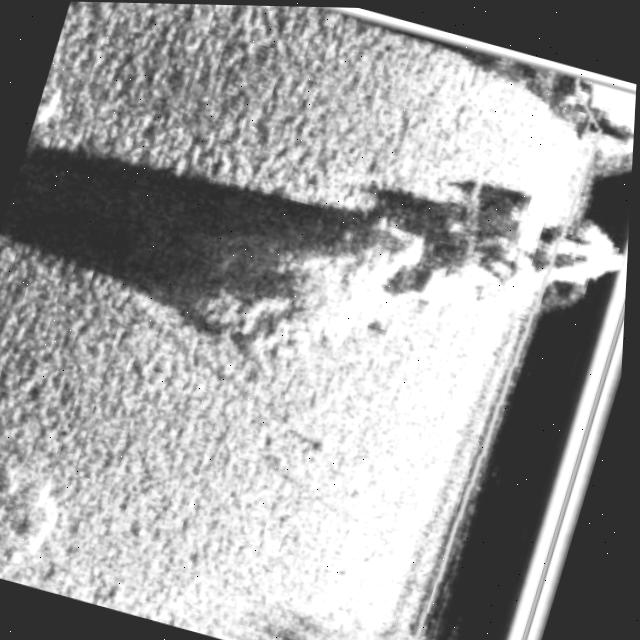bedrock group: (179, 115, 635, 438)
